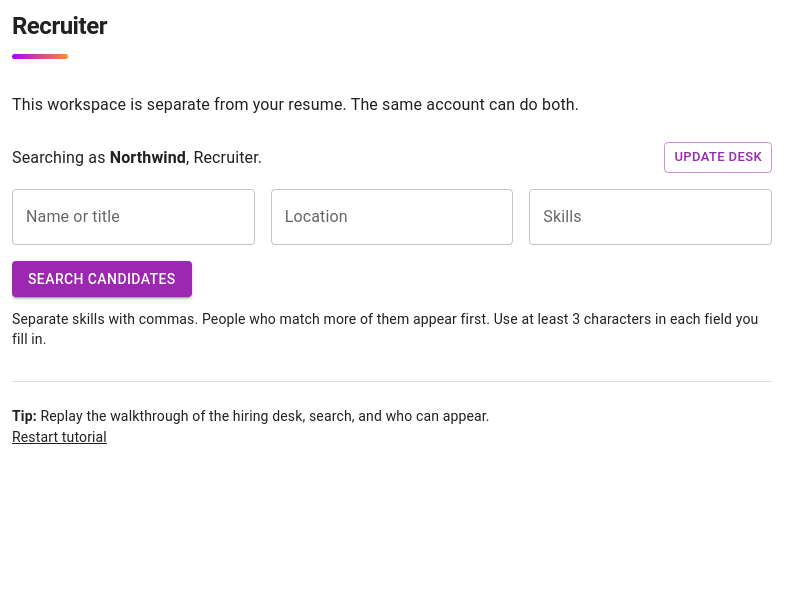
Test: RecruiterWorkspace › searches opted-in candidates and links to their public resumes
This screenshot has width=789, height=605.
Type "Engineer" into the field labelled "Name or title" at {"x": 133, "y": 217}, box [12,189,255,245]
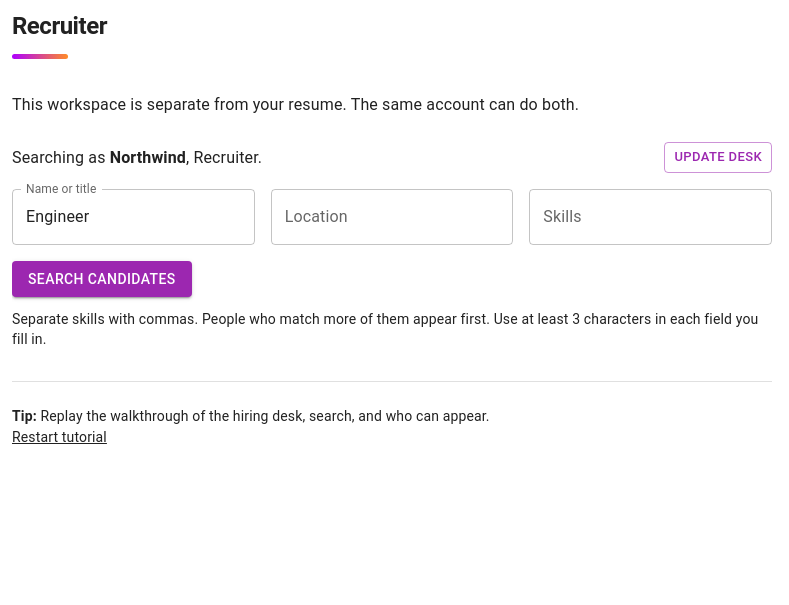
Click the button "Search candidates" at {"x": 102, "y": 279}, box [12,261,192,298]
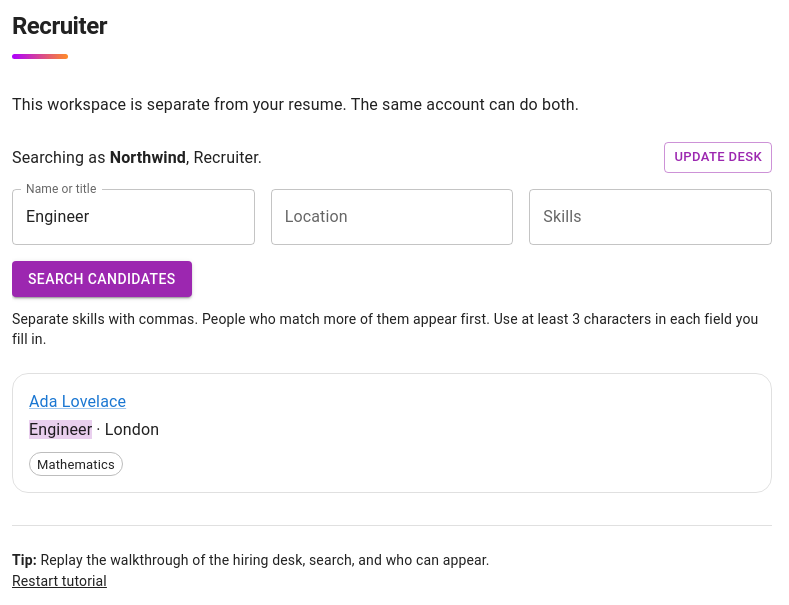
Check: the text "Mathematics" is shown, box [37,457,115,472]
